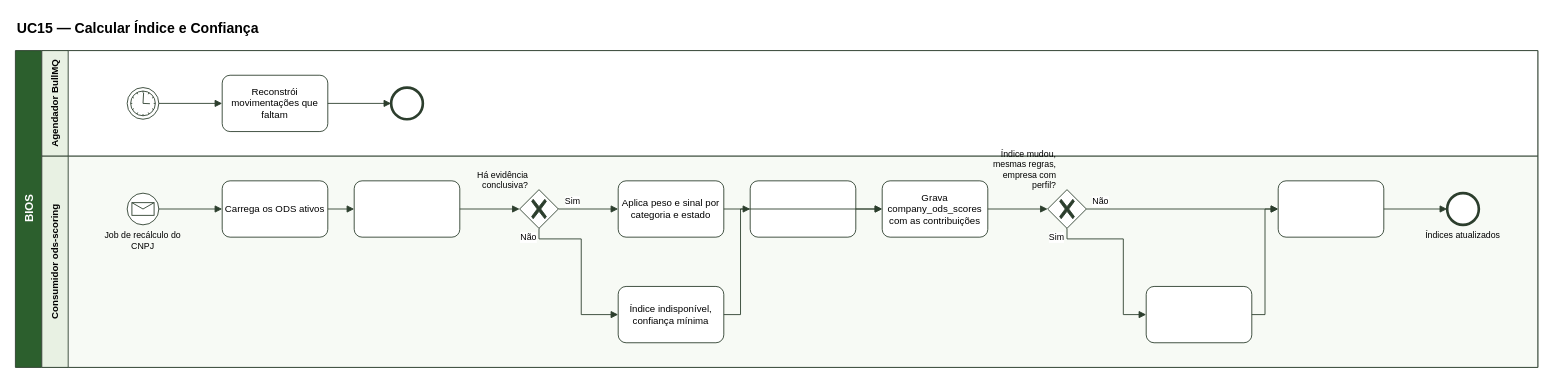
This 1553x383 diagram has some shape labels left out. The centre of each missing label's shape, as x and y in pixels:
"Apaga o cache do perfil" goes at [1330,208].
"Calcula o índice e, à parte, a confiança" goes at [802,208].
"Diariamente" goes at [142,103].
"Grava a movimentação: sentido, causa, categoria, data" goes at [1198,314].
"Movimentações completas" goes at [406,103].
"Seleciona as evidências de cada ODS" goes at [406,208].
